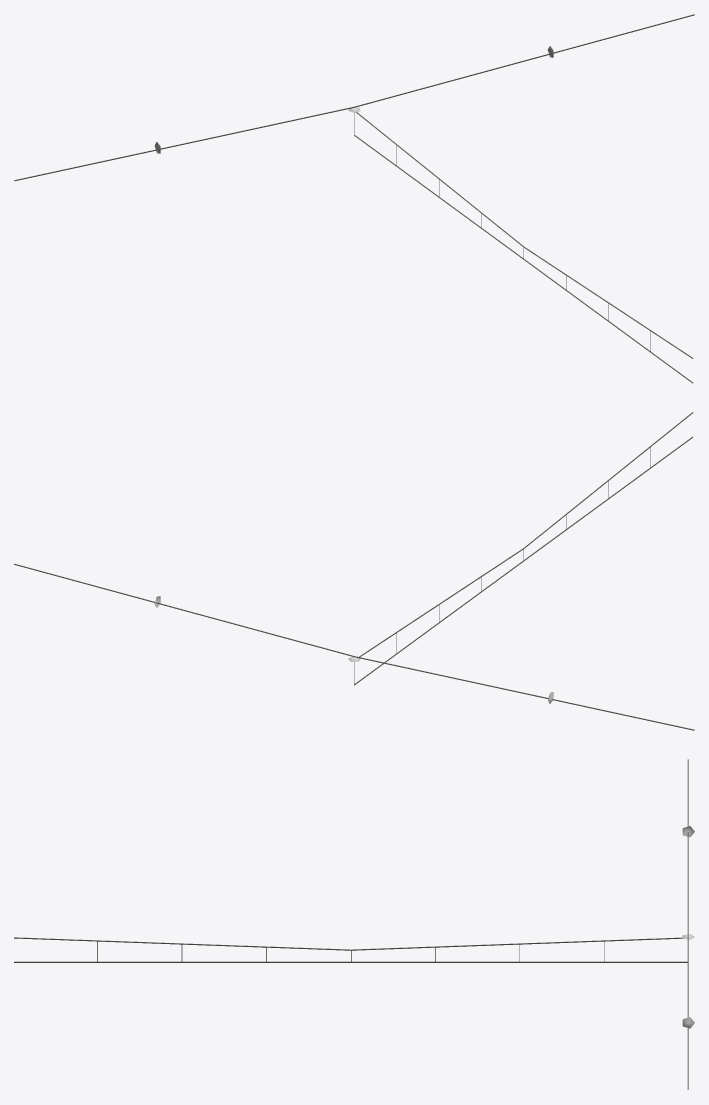
File: K_RO_KASEN50.glb
The picture shows the model from 3 angles, top to bottom: view 1: azimuth 30°, elevation 25°; view 2: azimuth 150°, elevation 25°; view 3: azimuth 270°, elevation 25°; orthographic projection.
Parts seen in each view (by area): view 1: obj1; view 2: obj1; view 3: obj1.
Part boxes in pixels (left/top/right/bottom): obj1: left=14, top=14, right=694, bottom=383; obj1: left=14, top=412, right=694, bottom=730; obj1: left=14, top=759, right=694, bottom=1089.
Bounding box in the file's own units: 58 × 3.39 × 50.48.
Materials: 1 (1 with a texture image).
